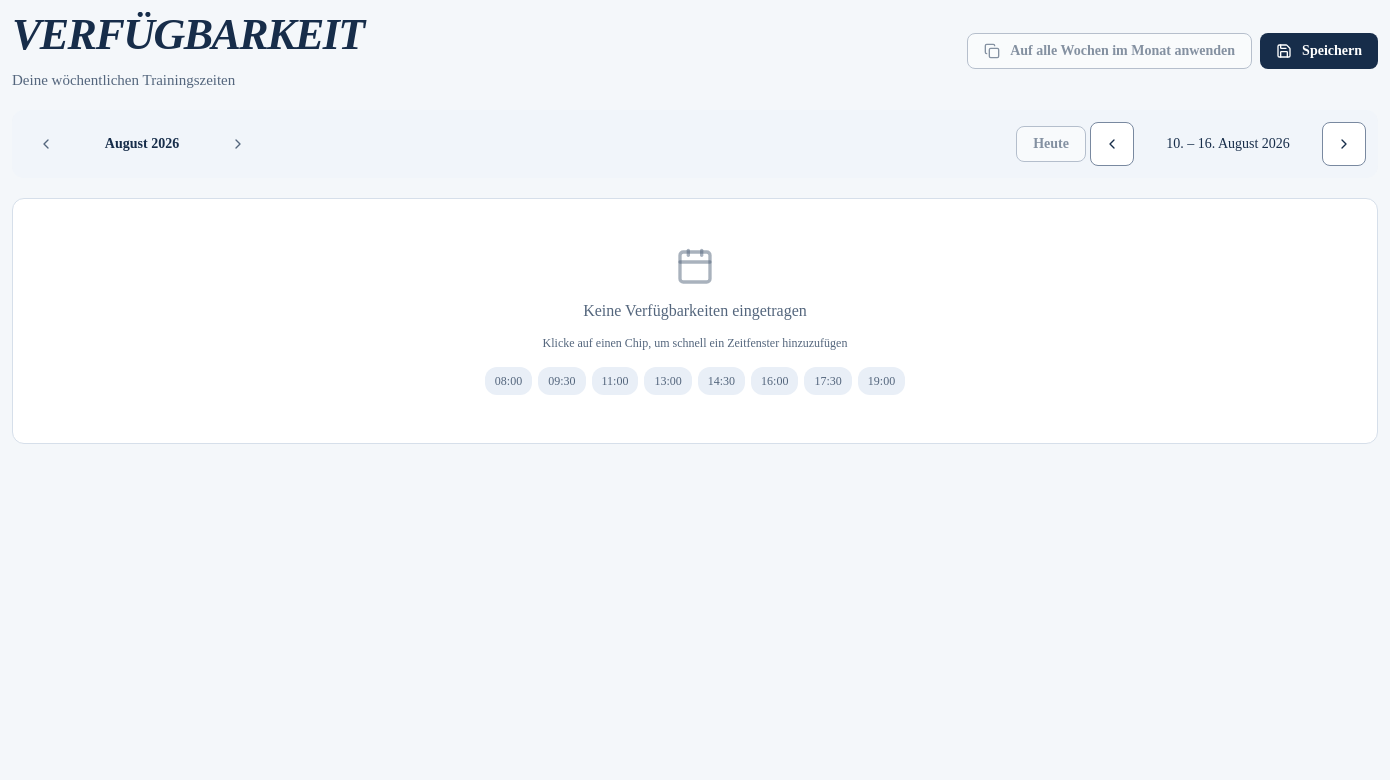
TrainerAvailabilityManager (integration) › clicking the same chip twice toggles it off and returns to empty state
Expected: the text "Keine Verfügbarkeiten eingetragen" is shown, left=583, top=302, right=807, bottom=319
Click "11:00" → grid view
Click the button "11:00" at (615, 381), box left=592, top=367, right=638, bottom=395
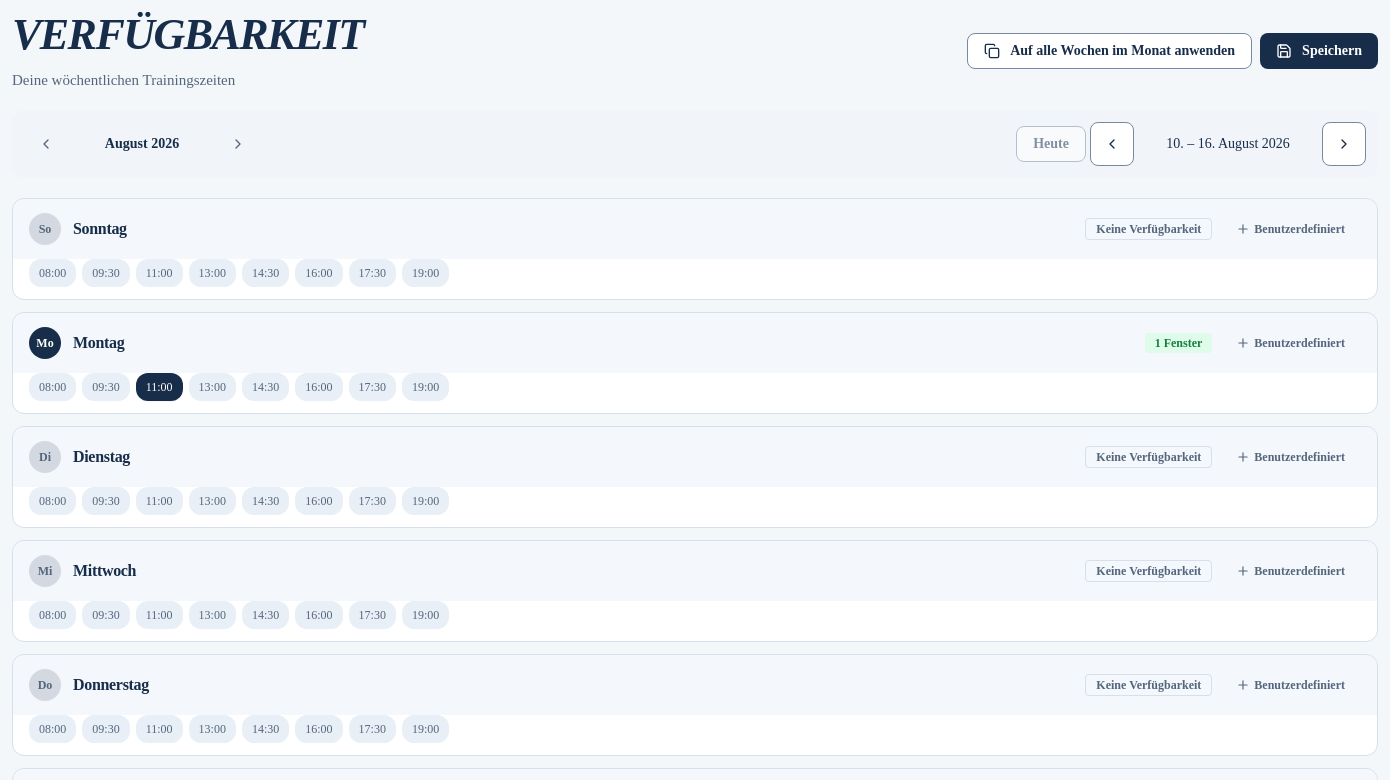
Now the text "1 Fenster" is shown, box left=1145, top=333, right=1212, bottom=353
Click again → toggle off
Click the button "11:00" below "Montag" at (159, 387), box left=136, top=373, right=183, bottom=401
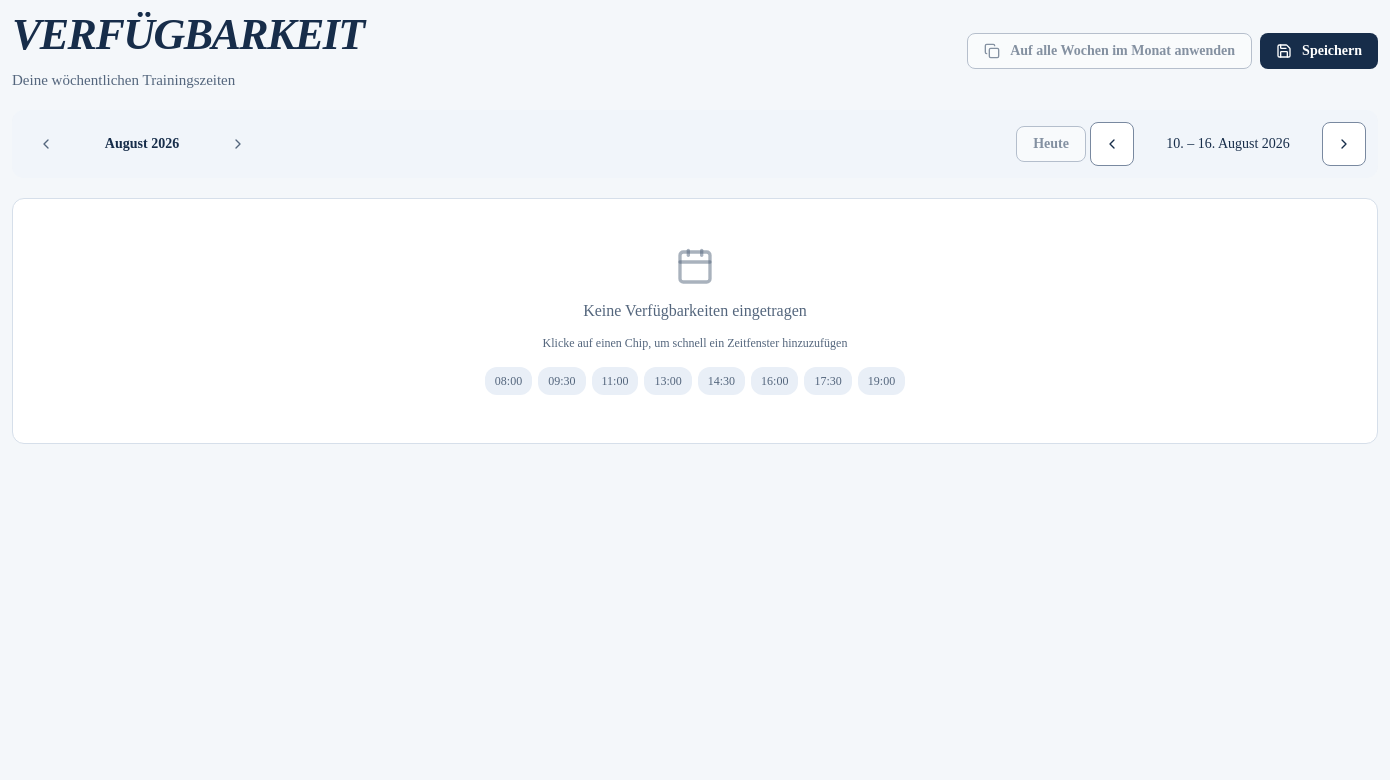
Now the text "Keine Verfügbarkeiten eingetragen" is shown, box left=583, top=302, right=807, bottom=319
